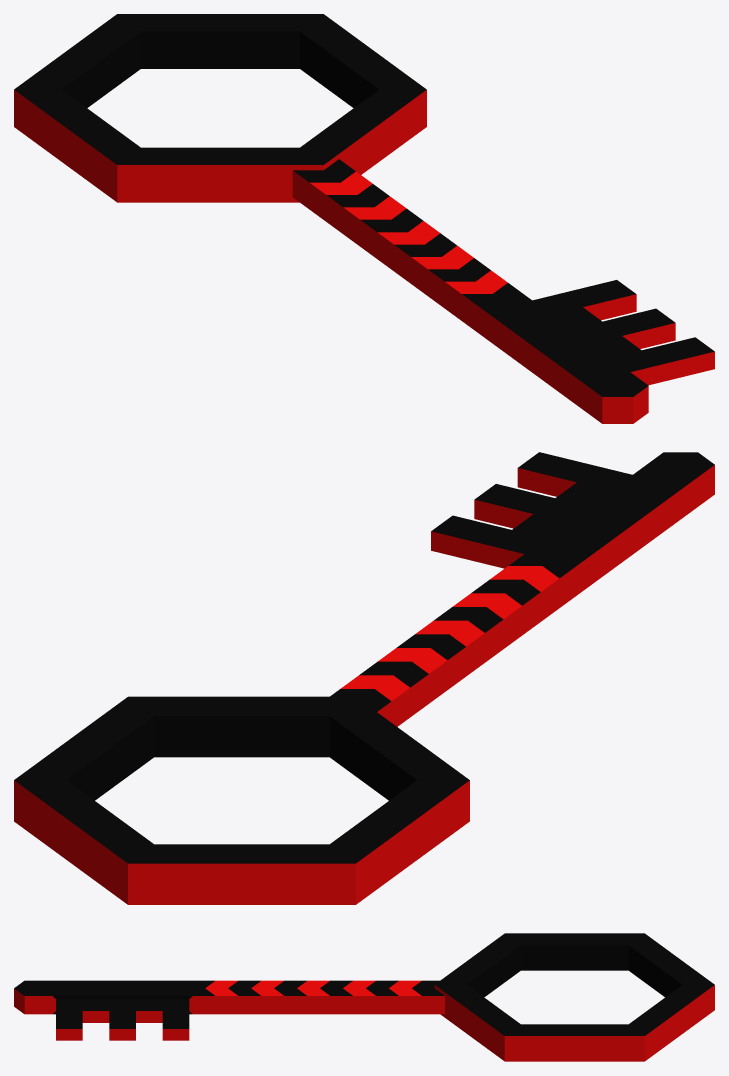
The model's file is Key Criptex.fbx.
3 views of the same model, one above another, from view 1: azimuth 30°, elevation 25°; view 2: azimuth 150°, elevation 25°; view 3: azimuth 270°, elevation 25° (orthographic). The views are drawn at different scales.
Parts seen in each view (by area): view 1: Cylinder; view 2: Cylinder; view 3: Cylinder.
Boxes of the visible parts, x1,y1,x2,y2 form: Cylinder: (14,14,714,423); Cylinder: (14,452,714,904); Cylinder: (14,933,714,1061).
Bounding box in the file's own units: 173 × 20 × 500.
